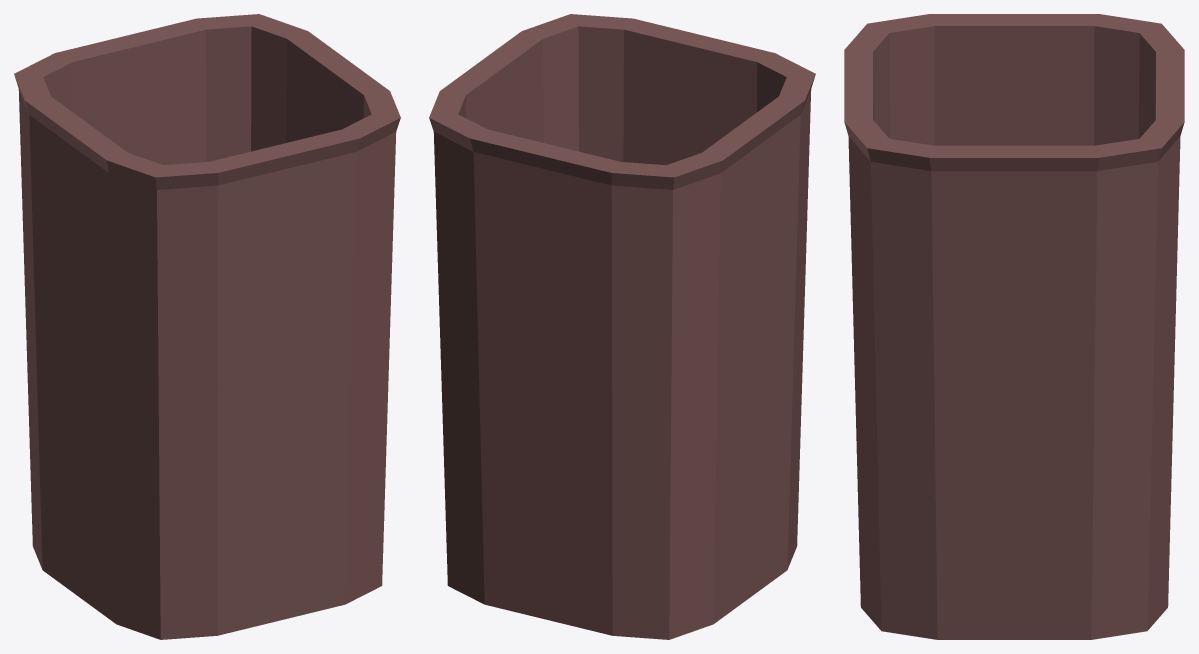
The model's file is Søppeldunk.fbx.
3 renders of one model, left to right at view 1: azimuth 30°, elevation 25°; view 2: azimuth 150°, elevation 25°; view 3: azimuth 270°, elevation 25°, orthographic. The views are drawn at different scales.
Visible parts, largest first — view 1: Cube; view 2: Cube; view 3: Cube.
Part boxes in pixels (x1=…): Cube: x1=14, y1=14, x2=400, y2=639; Cube: x1=429, y1=14, x2=815, y2=639; Cube: x1=844, y1=14, x2=1184, y2=639.
Bounding box in the file's own units: 244 × 387 × 244.
